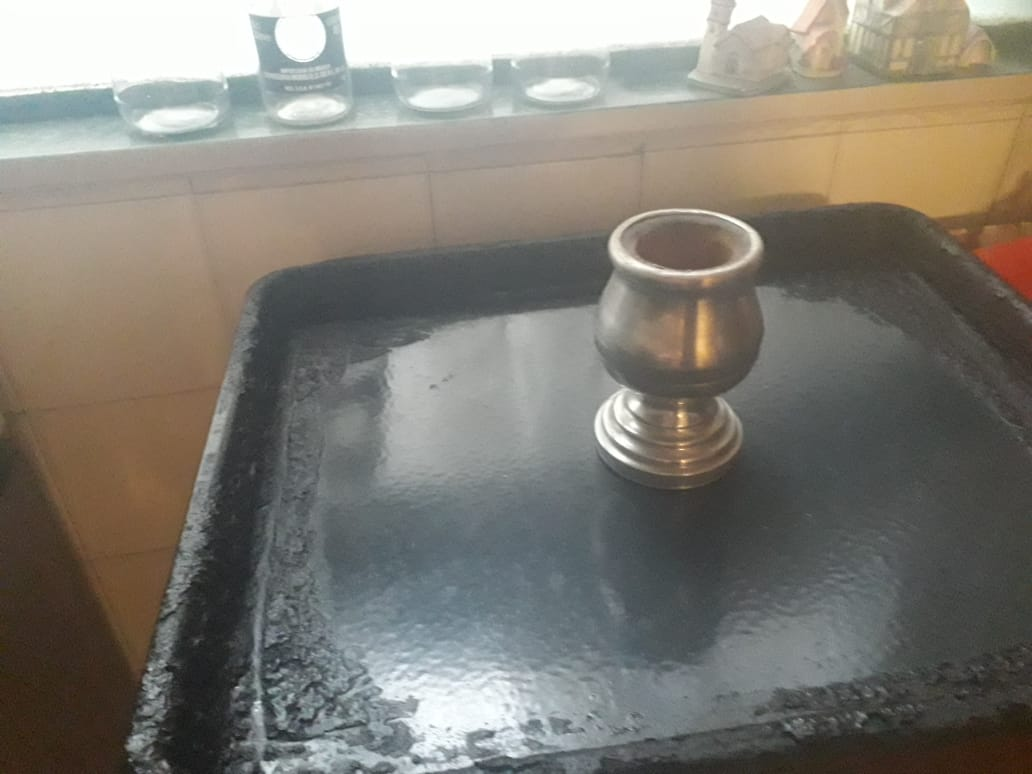mate: (592, 206, 767, 493)
metal: (590, 204, 765, 491)
